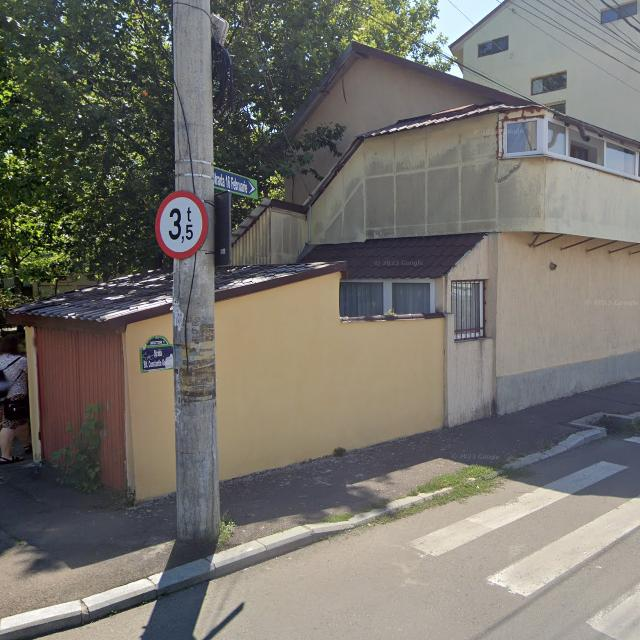forb_weight_over_3.5t: (154, 192, 208, 260)
